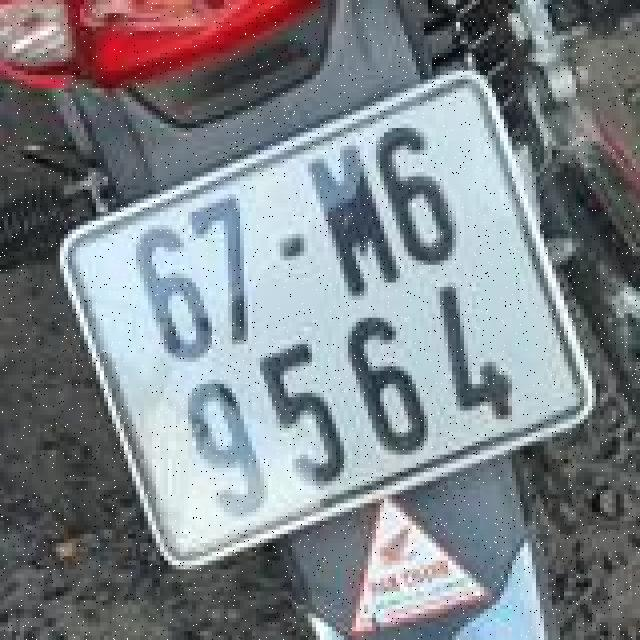4: (412, 259, 529, 441)
5: (247, 329, 360, 504)
6: (327, 300, 445, 473), (366, 109, 479, 281), (127, 202, 225, 383)
7: (182, 178, 274, 359)
9: (164, 366, 280, 537)
M: (292, 125, 417, 324)
